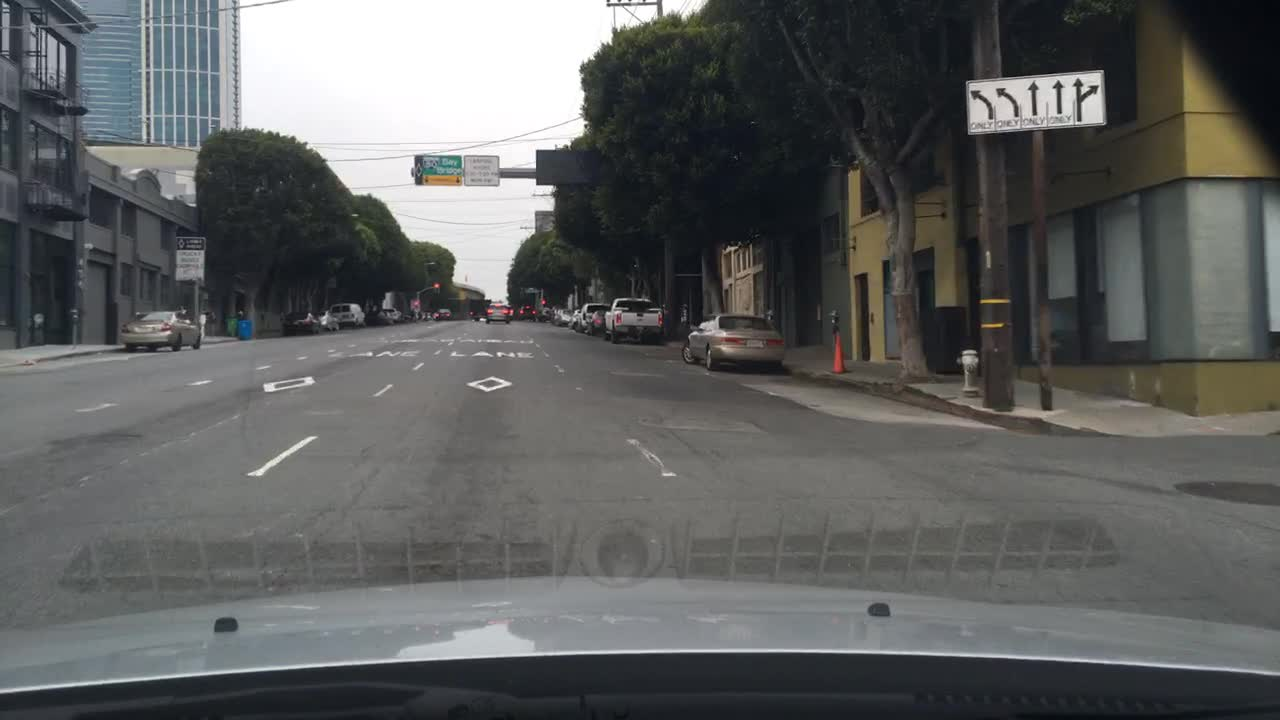car: (679, 311, 784, 369), (119, 308, 200, 350), (579, 302, 610, 333), (329, 302, 366, 327), (282, 310, 318, 335), (483, 301, 511, 324), (311, 310, 339, 332), (552, 307, 574, 326), (514, 304, 538, 320), (364, 310, 387, 326), (382, 307, 403, 323), (432, 307, 453, 322), (532, 305, 550, 320), (568, 308, 580, 330), (502, 302, 513, 320), (420, 310, 436, 322), (403, 311, 415, 324)
person: (206, 310, 218, 335), (234, 308, 246, 323)
traffic light: (538, 293, 547, 308), (430, 277, 438, 293), (409, 298, 418, 311)
traffic sign: (965, 71, 1107, 134), (535, 148, 598, 185), (412, 154, 460, 185), (173, 236, 203, 278), (463, 152, 496, 185), (567, 295, 573, 311), (382, 293, 388, 308), (523, 289, 538, 293)
truck: (603, 296, 664, 341), (468, 299, 490, 320)
